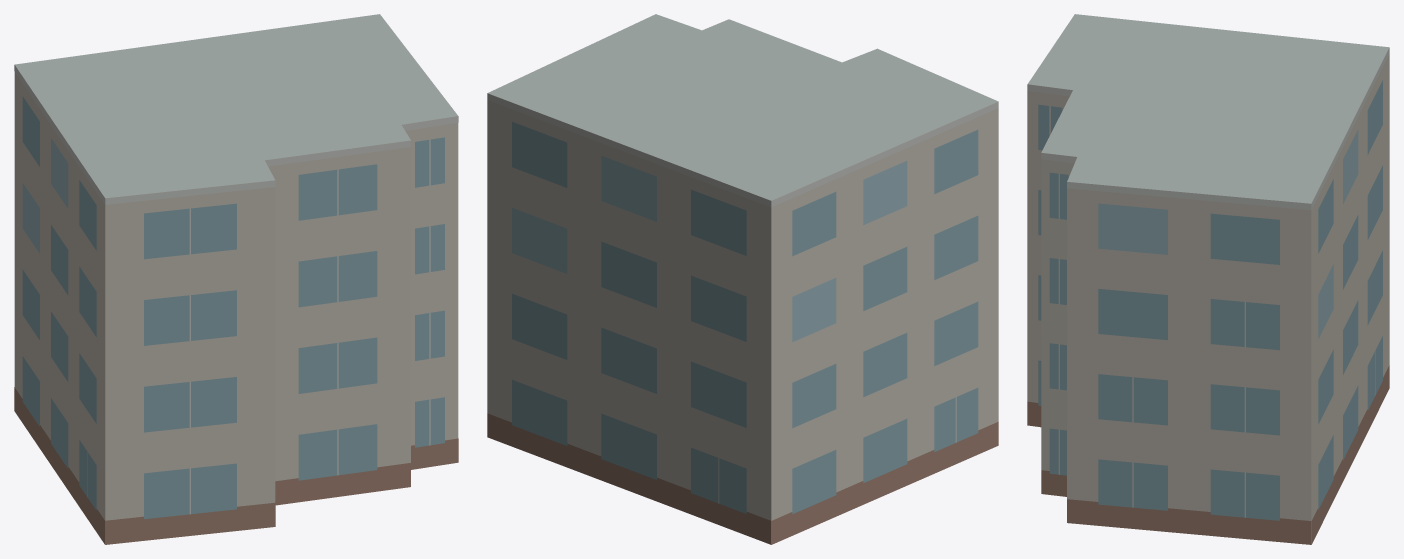
Rendered from survey-upis-32844959.glb.
3 renders of one model, left to right at view 1: azimuth 30°, elevation 25°; view 2: azimuth 150°, elevation 25°; view 3: azimuth 270°, elevation 25°, orthographic.
Parts seen in each view (by area): view 1: survey-upis-32844959.tmp; view 2: survey-upis-32844959.tmp; view 3: survey-upis-32844959.tmp.
Boxes of the visible parts, <box> form: survey-upis-32844959.tmp: <box>14,14,458,544</box>; survey-upis-32844959.tmp: <box>487,14,998,544</box>; survey-upis-32844959.tmp: <box>1027,14,1389,544</box>.
Bounding box in the file's own units: 15.34 × 12.85 × 12.37.
